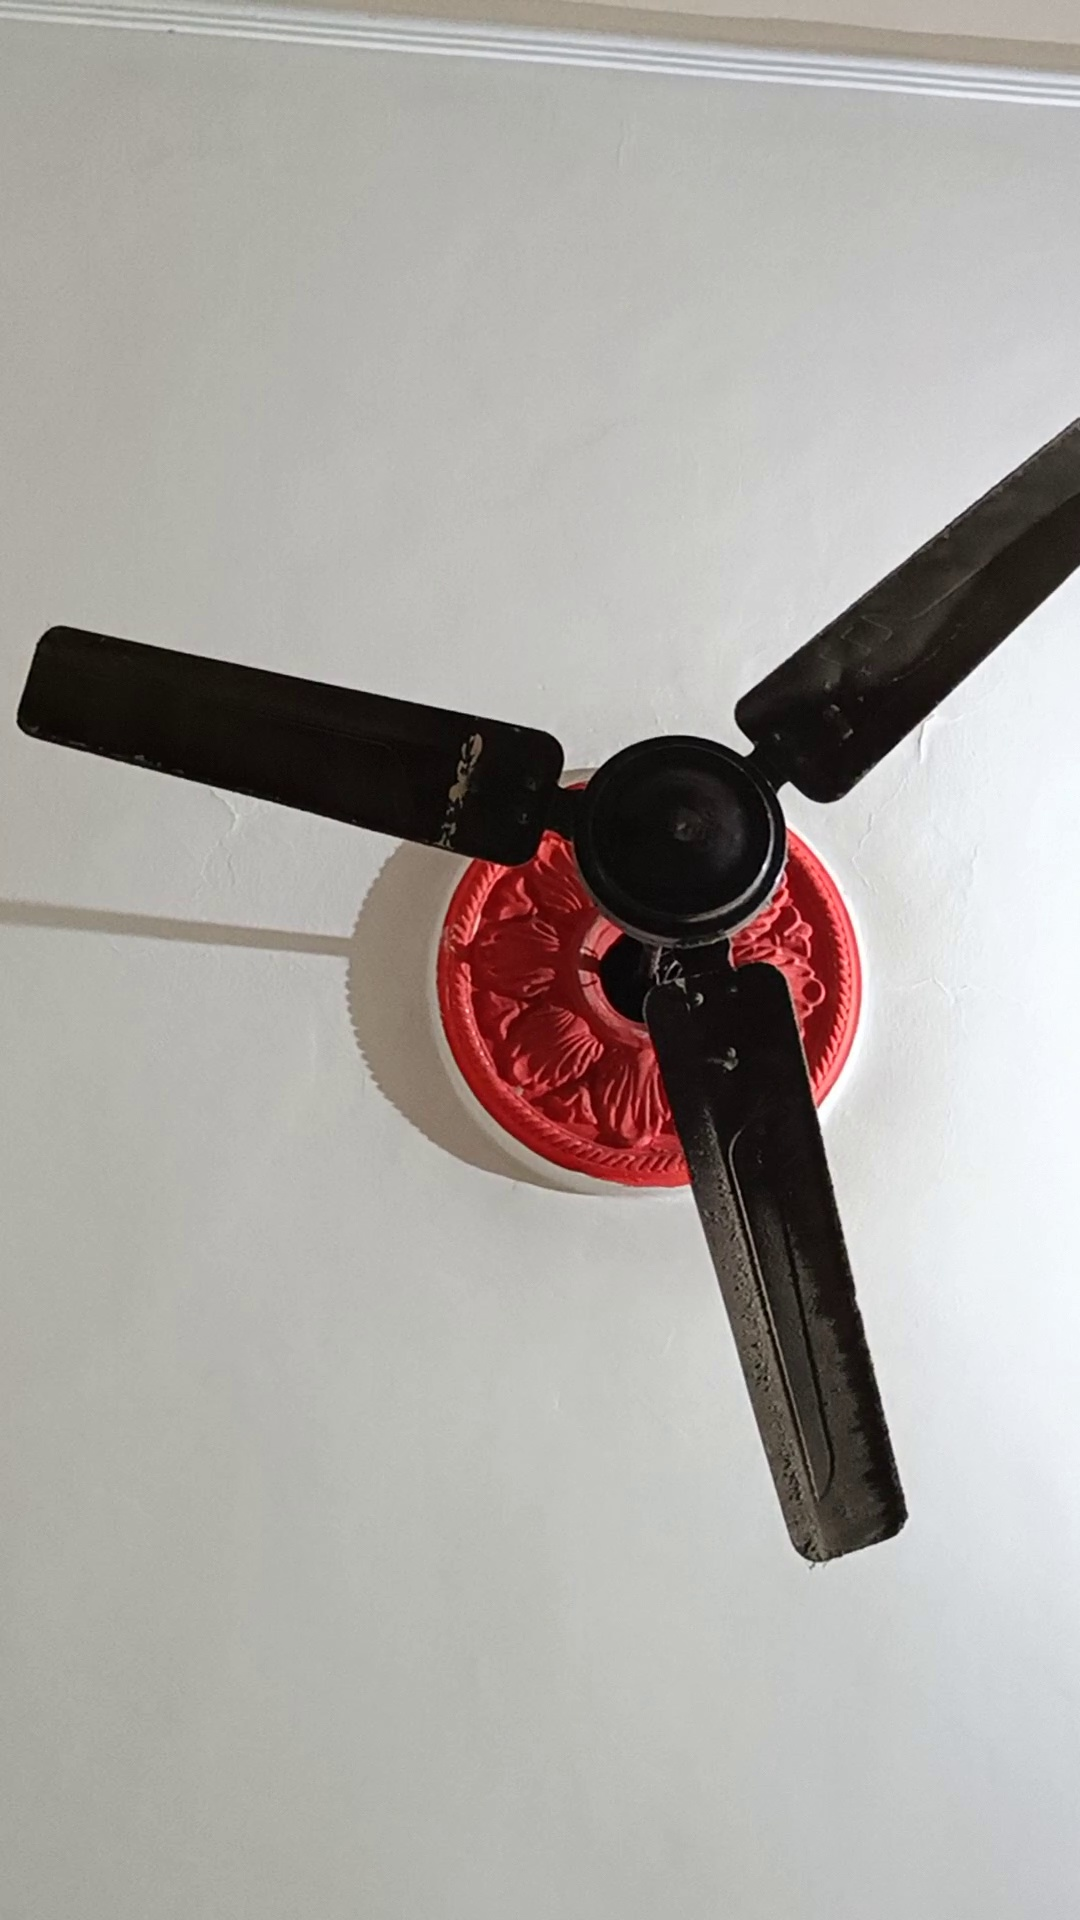fan: (37, 419, 1080, 1556)
